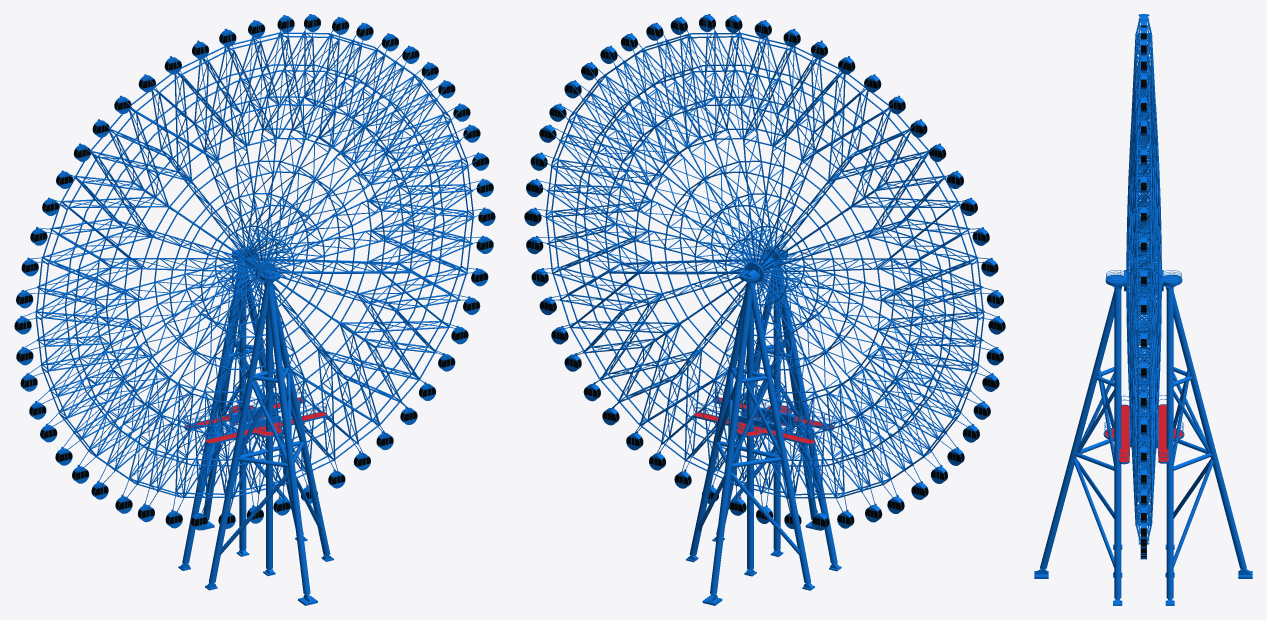
The model's file is FerrisWeel.fbx.
The picture shows the model from 3 angles, left to right: view 1: azimuth 30°, elevation 25°; view 2: azimuth 150°, elevation 25°; view 3: azimuth 270°, elevation 25°; orthographic projection.
Visible parts, largest first — view 1: FerrisWeel; view 2: FerrisWeel; view 3: FerrisWeel.
Part boxes in pixels (<box>): FerrisWeel: <box>14,14,495,605</box>; FerrisWeel: <box>524,14,1005,605</box>; FerrisWeel: <box>1034,14,1252,605</box>.
Bounding box in the file's own units: 7924 × 8589 × 3169.
